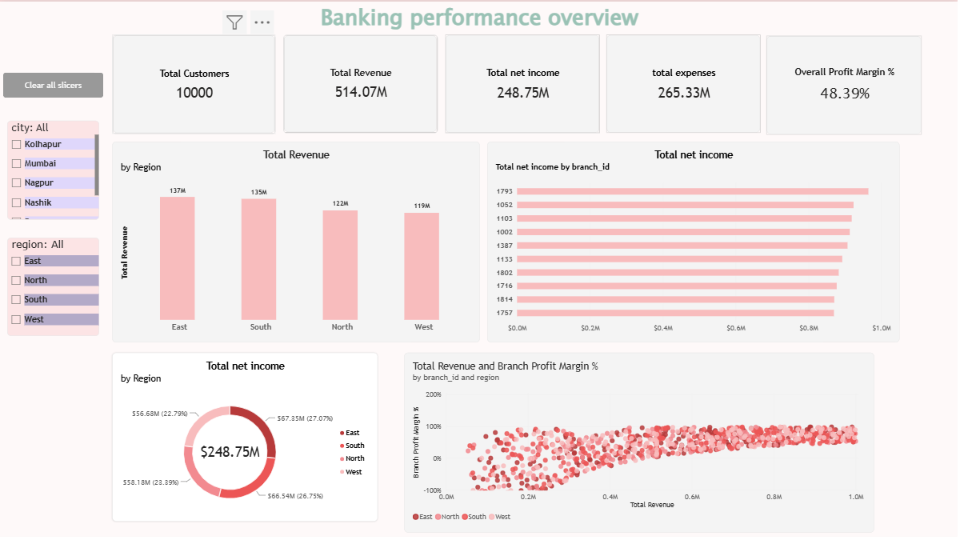

This screenshot's page, from the dashboard's own definition file:
{"tool":"powerbi","page":{"name":"Banking performance overview","canvas":[1920,1080],"ordinal":0},"visuals":[{"type":"cardVisual","fields":{"Data":["bank_features.Total Revenue"]},"box":[568.6,66.2,309.5,197.3],"z":0},{"type":"cardVisual","fields":{"Data":["bank_features.Total net income"]},"box":[891.7,66.7,309.5,197.3],"z":1000},{"type":"cardVisual","fields":{"Data":["bank_features.total expenses"]},"box":[1213.3,66.7,309,197],"z":2000},{"type":"cardVisual","title":"overall profit margin %","fields":{"Data":["bank_features.Overall Profit Margin %"]},"box":[1533.3,68.3,311.1,198.5],"z":3000},{"type":"clusteredColumnChart","title":"Total Revenue ","fields":{"Category":["bank_features.region"],"Y":["bank_features.Total Revenue"]},"box":[225,280,735,401.7],"z":4000},{"type":"cardVisual","fields":{"Data":["bank_features.Total Customers"]},"box":[225,65,327.5,199.1],"z":5000},{"type":"clusteredBarChart","title":"Total net income","fields":{"Category":["bank_features.branch_id"],"Y":["bank_features.Total net income"]},"box":[976.7,280,824.5,401.9],"z":6000},{"type":"donutChart","title":"Total net income ","fields":{"Category":["bank_features.region"],"Series":["bank_features.region"],"Y":["bank_features.Total net income"]},"box":[225,701.7,531,337.9],"z":7000},{"type":"textbox","box":[0,0,1920.8,66],"z":8000},{"type":"slicer","fields":{"Values":["bank_features.city"]},"box":[16.1,237.8,184,198],"z":9000},{"type":"slicer","fields":{"Values":["bank_features.region"]},"box":[16.1,472,184.2,196.7],"z":10000},{"type":"scatterChart","fields":{"Category":["bank_features.branch_id"],"Series":["bank_features.region"],"X":["bank_features.Total Revenue"],"Y":["bank_features.Branch Profit Margin %"]},"box":[810,701.7,940,360],"z":11000},{"type":"actionButton","box":[7.2,141.3,200,50],"z":12000}]}

Visuals, with their boxes in screenshot pixels (x1, y1, x2, y2), scaled from the page's 1920x1080 canvas onto the 958x537 screenshot:
cardVisual - bank_features.Total Revenue: x1=284, y1=33, x2=438, y2=131
cardVisual - bank_features.Total net income: x1=445, y1=33, x2=599, y2=131
cardVisual - bank_features.total expenses: x1=605, y1=33, x2=760, y2=131
"overall profit margin %" cardVisual: x1=765, y1=34, x2=920, y2=133
"Total Revenue " clusteredColumnChart: x1=112, y1=139, x2=479, y2=339
cardVisual - bank_features.Total Customers: x1=112, y1=32, x2=276, y2=131
"Total net income" clusteredBarChart: x1=487, y1=139, x2=899, y2=339
"Total net income " donutChart: x1=112, y1=349, x2=377, y2=517
textbox: x1=0, y1=0, x2=957, y2=33
slicer - bank_features.city: x1=8, y1=118, x2=100, y2=217
slicer - bank_features.region: x1=8, y1=235, x2=100, y2=332
scatterChart - bank_features.branch_id x bank_features.region: x1=404, y1=349, x2=873, y2=528
actionButton: x1=4, y1=70, x2=103, y2=95
